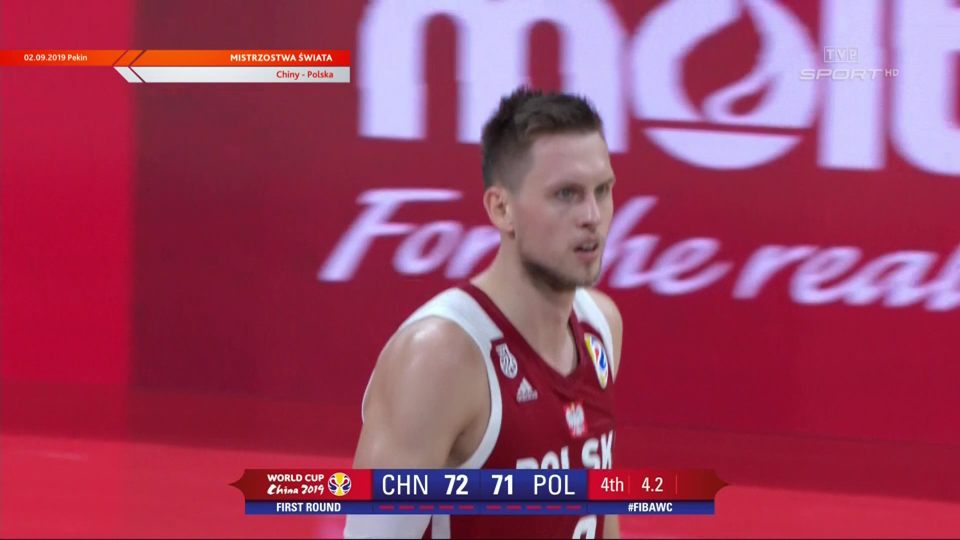Adidas: (513, 376, 540, 401)
